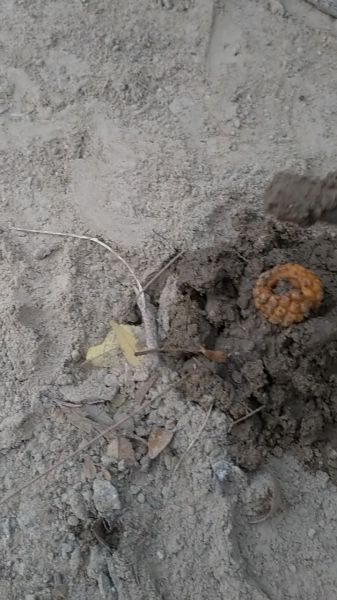eggs: (249, 264, 328, 327)
